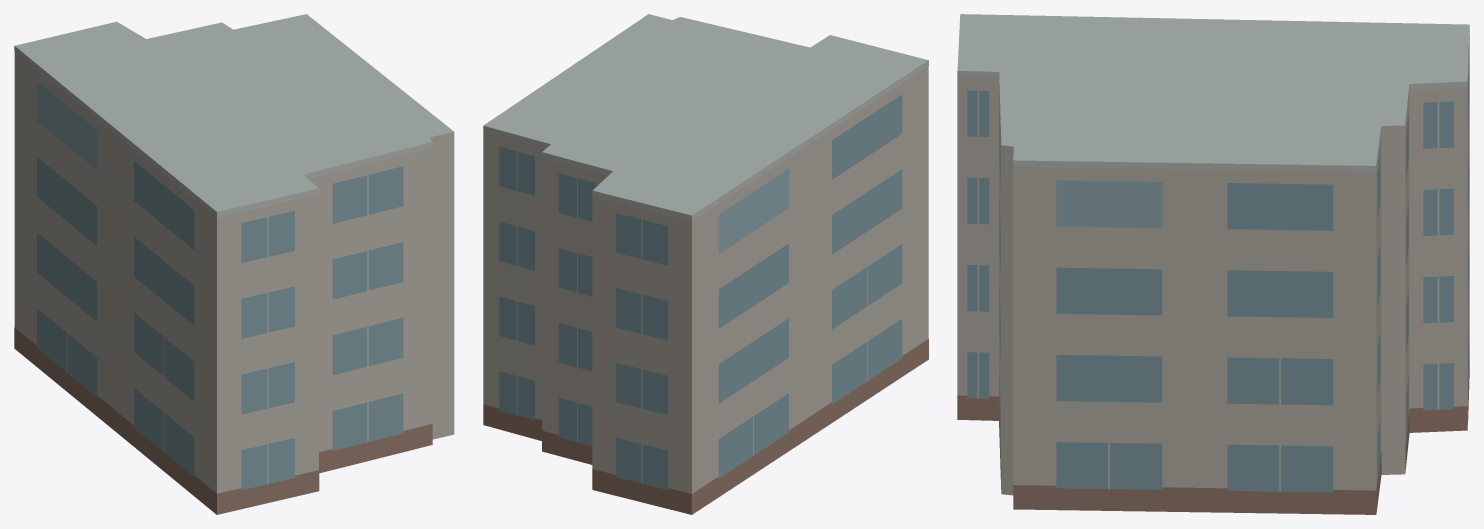
File: survey-upis-32625239.glb
The picture shows the model from 3 angles, left to right: view 1: azimuth 30°, elevation 25°; view 2: azimuth 150°, elevation 25°; view 3: azimuth 270°, elevation 25°; orthographic projection. The views are drawn at different scales.
Parts seen in each view (by area): view 1: survey-upis-32625239.tmp; view 2: survey-upis-32625239.tmp; view 3: survey-upis-32625239.tmp.
Boxes of the visible parts, x1,y1,x2,y2 form: survey-upis-32625239.tmp: [14, 14, 454, 514]; survey-upis-32625239.tmp: [483, 14, 928, 514]; survey-upis-32625239.tmp: [957, 14, 1469, 514].
Size of the model in its own units: 11.96 by 12.8 by 17.03.
